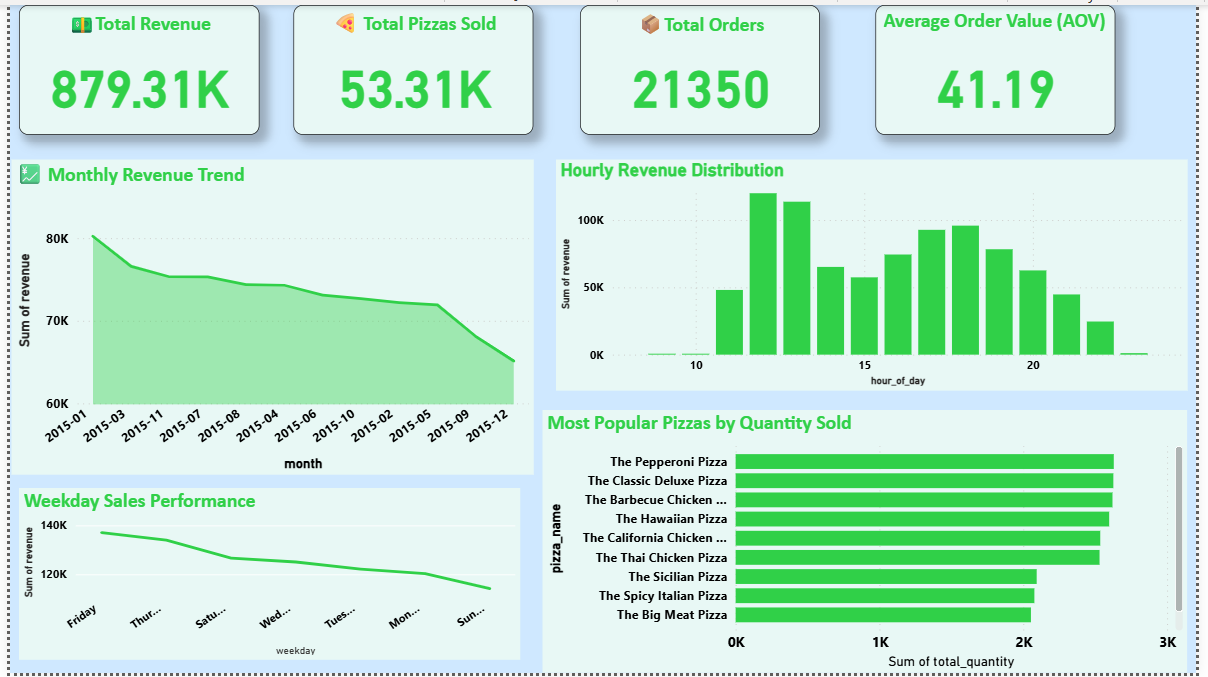

What the dashboard file says about the page in this screenshot:
{"tool":"powerbi","page":{"name":"Page 1","canvas":[1280,720],"ordinal":0},"visuals":[{"type":"card","title":"💵Total Revenue","fields":{"Values":["Sum(Query1.total_revenue)"]},"box":[9.4,0,259,139.8],"z":0},{"type":"card","title":"🍕 Total Pizzas Sold","fields":{"Values":["Sum(Query2.total_pizzas_sold)"]},"box":[306.1,0,258.9,139.8],"z":1000},{"type":"card","title":"📦Total Orders","fields":{"Values":["Sum(Query3.total_orders)"]},"box":[614.2,0,258.9,139.8],"z":2000},{"type":"clusteredColumnChart","title":"Hourly Revenue Distribution","fields":{"Category":["Query5.hour_of_day"],"Y":["Sum(Query5.revenue)"]},"box":[588.9,166.7,681.2,249.2],"z":3000},{"type":"clusteredBarChart","title":"Most Popular Pizzas by Quantity Sold","fields":{"Category":["Query6.pizza_name"],"Y":["Sum(Query6.total_quantity)"]},"box":[574.5,436.5,695.4,283.5],"z":4000},{"type":"card","title":"Average Order Value (AOV)","fields":{"Values":["Sum(Query9.average_order_value)"]},"box":[933.6,0,258.9,139.8],"z":5000},{"type":"lineChart","title":"Weekday Sales Performance","fields":{"Category":["Query10.weekday"],"Y":["Sum(Query10.revenue)"]},"box":[9.4,521.6,540.5,185.2],"z":6000},{"type":"stackedAreaChart","title":"💹 Monthly Revenue Trend","fields":{"Category":["Query11.month"],"Y":["Sum(Query11.revenue)"]},"box":[1.6,166.7,563.1,339.8],"z":7000}]}

Visuals, with their boxes in screenshot pixels (x1, y1, x2, y2), scaled from the page's 1280x720 canvas onto the 1208x677 screenshot:
"💵Total Revenue" card: 9,0,253,131
"🍕 Total Pizzas Sold" card: 289,0,533,131
"📦Total Orders" card: 580,0,824,131
"Hourly Revenue Distribution" clusteredColumnChart: 556,157,1199,391
"Most Popular Pizzas by Quantity Sold" clusteredBarChart: 542,410,1198,676
"Average Order Value (AOV)" card: 881,0,1125,131
"Weekday Sales Performance" lineChart: 9,490,519,665
"💹 Monthly Revenue Trend" stackedAreaChart: 2,157,533,476
